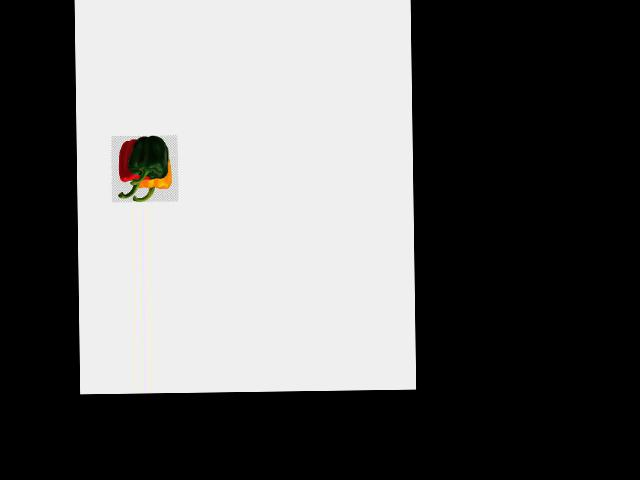bell_pepper: (110, 137, 149, 200)
